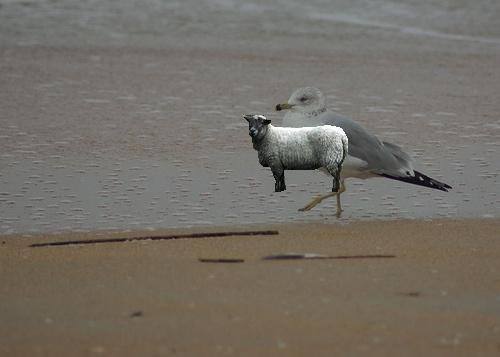tampered: (243, 115, 348, 192)
